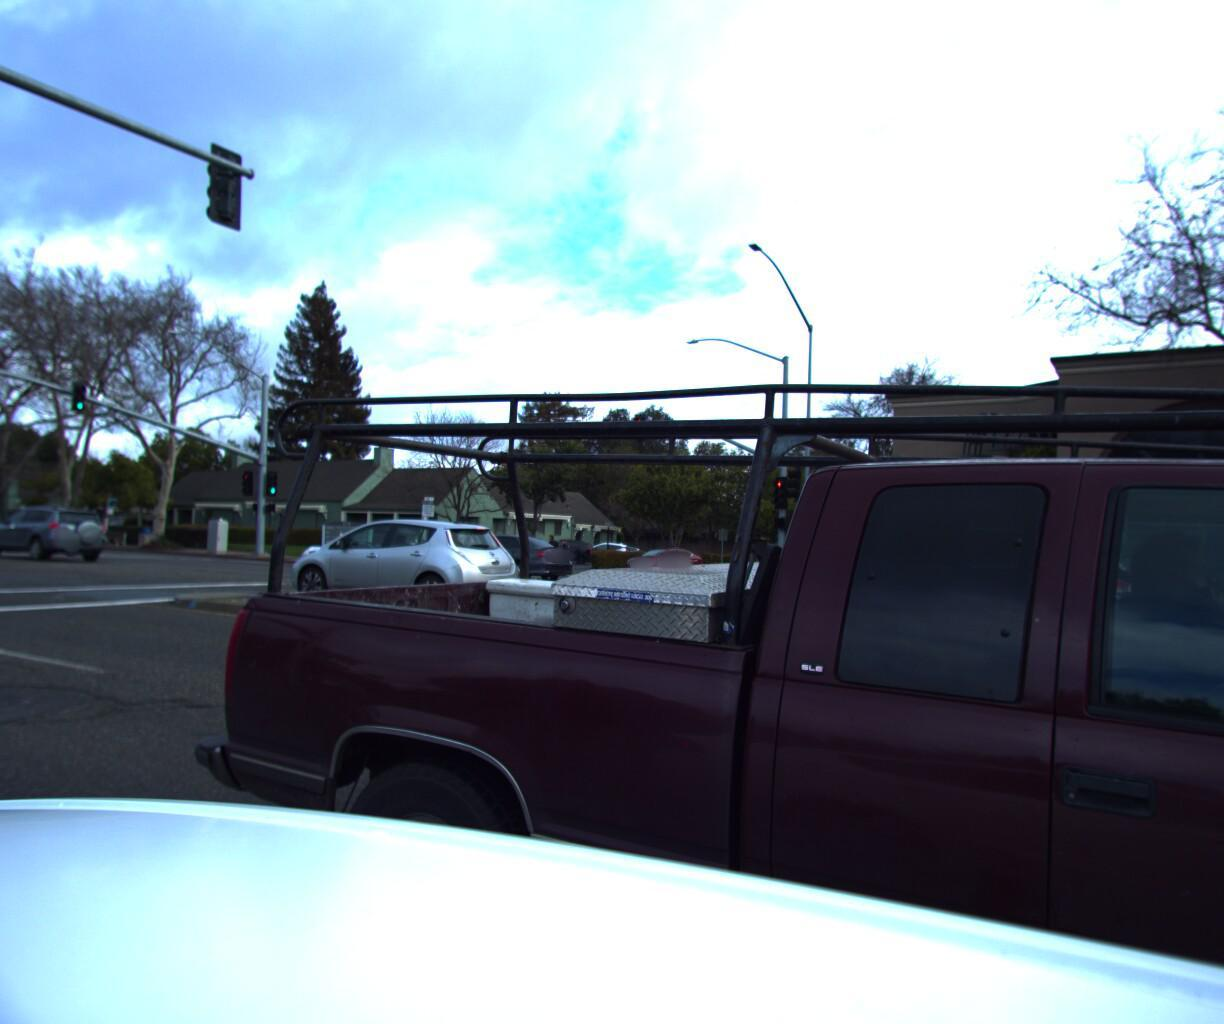bicycle: (526, 532, 571, 577), (540, 533, 583, 575)
car: (166, 0, 1224, 1024), (708, 511, 1141, 681), (266, 513, 531, 619), (435, 529, 591, 584), (0, 498, 117, 560), (614, 547, 707, 581), (525, 538, 591, 567), (569, 542, 630, 566)
